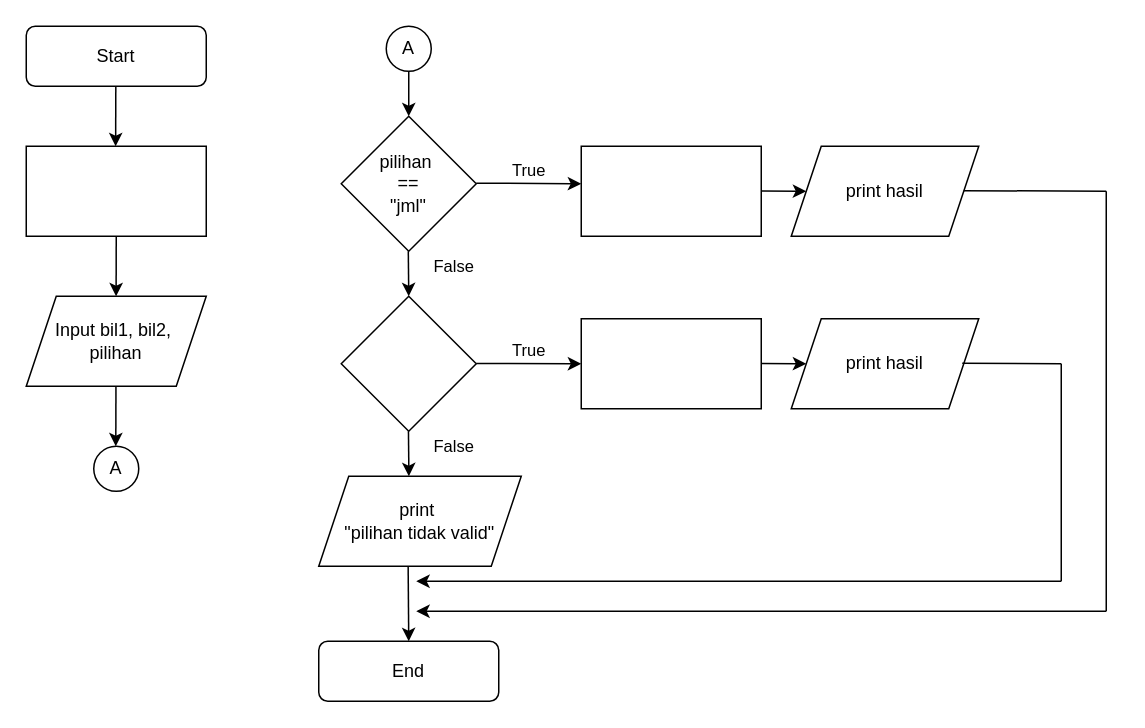
This 1145x728 diagram has some shape labels left out. The centre of each missing label's shape, as x and y in pixels:
hasil = bil1 * bil2: the point at 670,363
hasil = bil1 + bil2: the point at 670,190
int bil1, bil2, hasil string pilihan: the point at 115,190
pilihan == "kali": the point at 408,363
